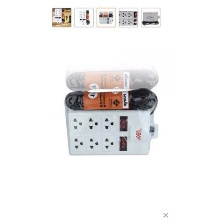three_eye_plug: (58, 98, 162, 159)
